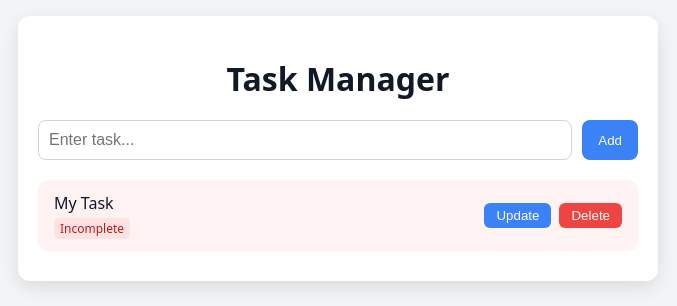
Test case: App Component › marks a task as complete and updates status
The image size is (677, 306).
Expected: the text "My Task" is shown, [54,192,114,214]
Note: Click Update button to enter edit mode
Click the button "Update" at (518, 216), box [484,203,552,228]
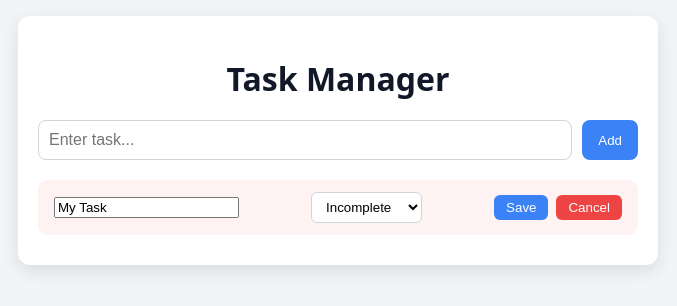
Note: Change status to complete
Select "Complete" in the dropdown at (366, 208), box [311,192,422,223]
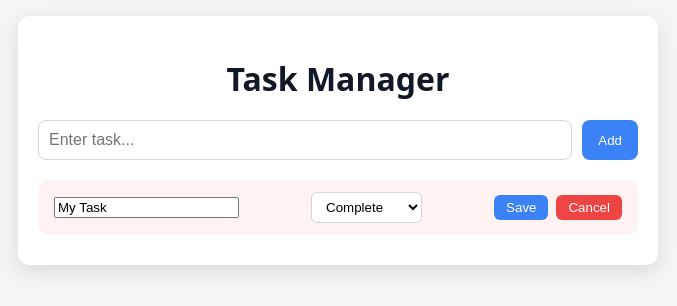
Note: Click Save
Click the button "Save" at (521, 208), box [494,195,548,220]
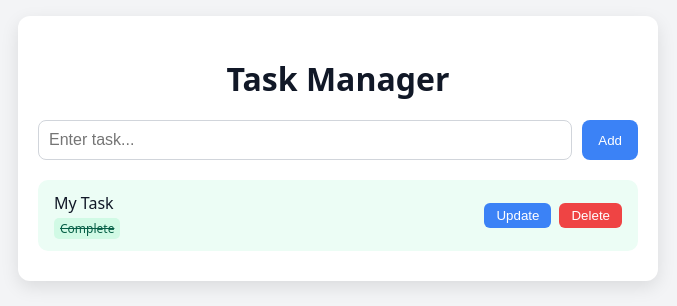
Now the text "complete" is shown, box [54,218,120,239]
